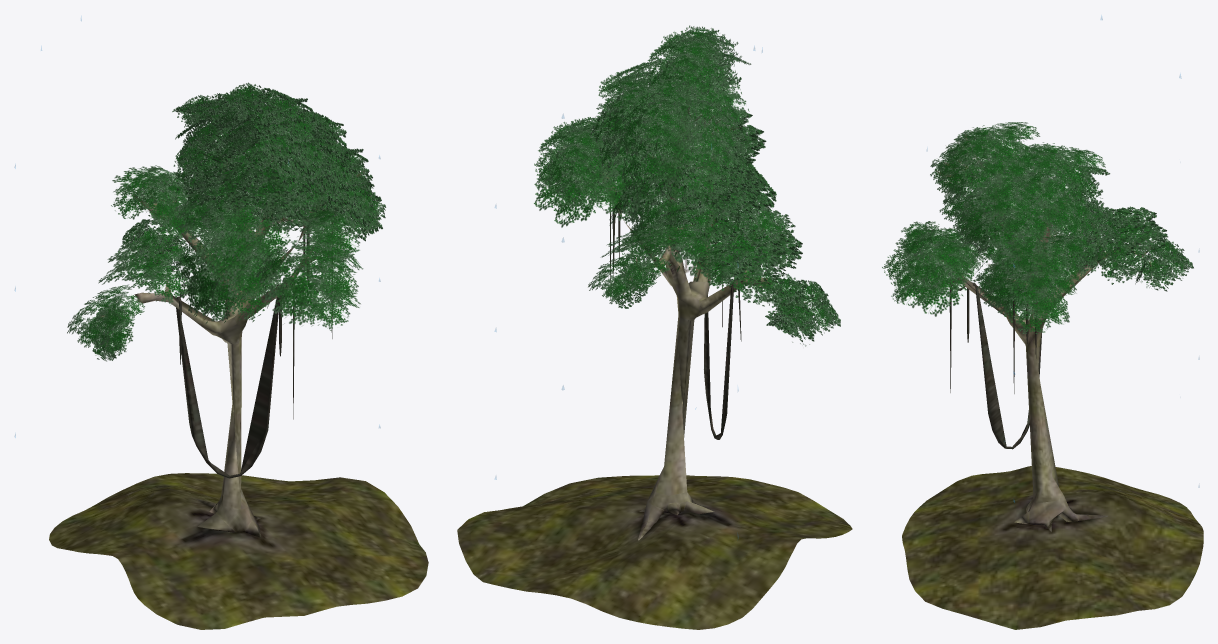
Rendered from Sinharaja.glb.
3 views of the same model, side by side, from view 1: azimuth 30°, elevation 25°; view 2: azimuth 150°, elevation 25°; view 3: azimuth 270°, elevation 25° (orthographic). The views are drawn at different scales.
Parts seen in each view (by area): view 1: ground_low0, tree_low0, Vines.002, Leaf 1.089, Leaf 1.425, Leaf 1.411, Leaf 1.433, Leaf 1.191, Leaf 1.424, Leaf 1.208, Leaf 1.399, Leaf 1.412 (+34 smaller); view 2: ground_low0, tree_low0, Vines.002, Leaf 1.027, Leaf 1.030, Leaf 1.392, Leaf 1.217, Leaf 1.003, Leaf 1.008, Leaf 1.226, Leaf 1.123, Leaf 1.170 (+29 smaller); view 3: ground_low0, tree_low0, Vines.002, Leaf 1.002, Leaf 1.160, Leaf 1.110, Leaf 1.005, Leaf 1.344, Leaf 1.224, Leaf 1.003, Leaf 1.087, Leaf 1.383 (+35 smaller).
Part boxes in pixels (<box>): ground_low0: <box>49,473,428,629</box>; tree_low0: <box>131,131,338,538</box>; Vines.002: <box>176,207,337,478</box>; Leaf 1.089: <box>261,259,320,319</box>; Leaf 1.425: <box>178,255,219,314</box>; Leaf 1.411: <box>244,217,290,263</box>; Leaf 1.433: <box>213,199,263,238</box>; Leaf 1.191: <box>249,159,308,207</box>; Leaf 1.424: <box>185,261,245,323</box>; Leaf 1.208: <box>228,146,282,192</box>; Leaf 1.399: <box>194,226,256,275</box>; Leaf 1.412: <box>213,213,262,262</box>; ground_low0: <box>457,475,852,629</box>; tree_low0: <box>603,75,771,540</box>; Vines.002: <box>604,168,741,439</box>; Leaf 1.027: <box>717,230,782,281</box>; Leaf 1.030: <box>730,262,784,306</box>; Leaf 1.392: <box>615,167,677,212</box>; Leaf 1.217: <box>633,143,684,185</box>; Leaf 1.003: <box>637,221,701,248</box>; Leaf 1.008: <box>606,112,644,156</box>; Leaf 1.226: <box>642,106,700,160</box>; Leaf 1.123: <box>553,182,603,227</box>; Leaf 1.170: <box>692,55,733,95</box>; ground_low0: <box>902,466,1203,629</box>; tree_low0: <box>932,172,1143,531</box>; Vines.002: <box>949,280,1041,449</box>; Leaf 1.002: <box>1110,217,1162,255</box>; Leaf 1.160: <box>981,128,1023,163</box>; Leaf 1.110: <box>1028,242,1069,277</box>; Leaf 1.005: <box>1106,241,1150,276</box>; Leaf 1.344: <box>1036,190,1075,234</box>; Leaf 1.224: <box>1049,150,1088,186</box>; Leaf 1.003: <box>1106,206,1156,228</box>; Leaf 1.087: <box>913,276,966,316</box>; Leaf 1.383: <box>1061,232,1101,277</box>.
Size of the model in its own units: 1.29 by 2.05 by 1.22.
6 materials, 5 textured.
